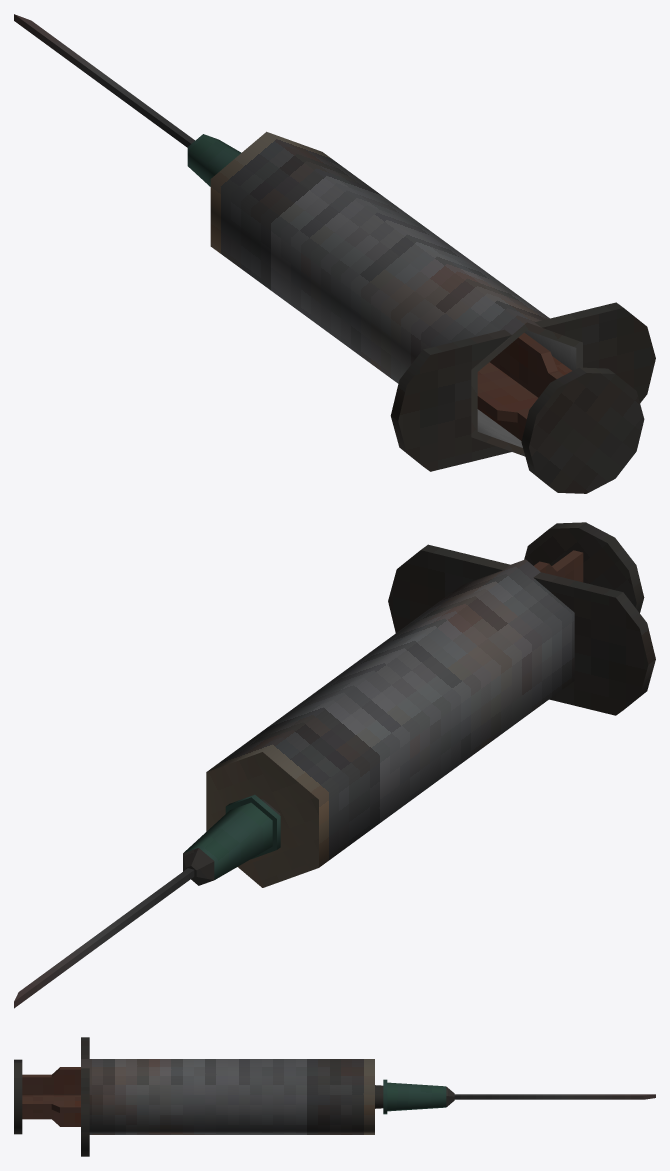
The model's file is syringe_mp_1_1.glb.
The picture shows the model from 3 angles, top to bottom: view 1: azimuth 30°, elevation 25°; view 2: azimuth 150°, elevation 25°; view 3: azimuth 270°, elevation 25°; orthographic projection. The views are drawn at different scales.
Parts seen in each view (by area): view 1: syringe_mp_1_1; view 2: syringe_mp_1_1; view 3: syringe_mp_1_1.
Part boxes in pixels (bbox=[...]): syringe_mp_1_1: bbox=[14, 14, 655, 493]; syringe_mp_1_1: bbox=[14, 522, 655, 1008]; syringe_mp_1_1: bbox=[14, 1037, 655, 1156].
Size of the model in its own units: 0.04 by 0.02 by 0.153.
1 material, 1 textured.
